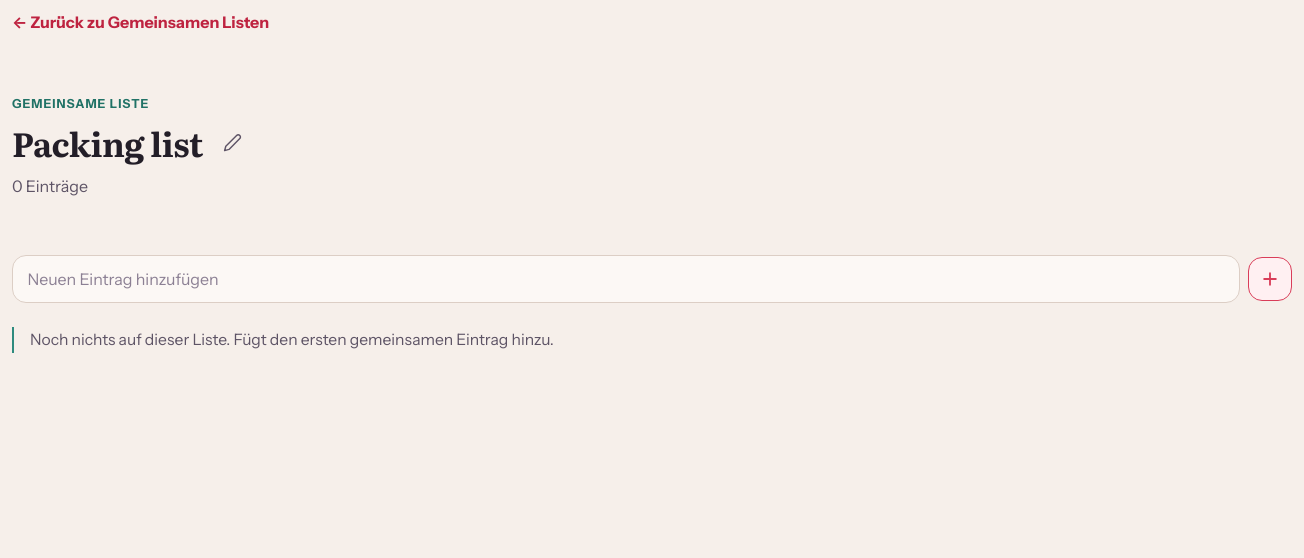
CollectionProductPage › resets isEditing and confirmDelete on successful title update
The image size is (1304, 558).
Click the button named "Bearbeiten". click: (233, 143)
box: x1=211 y1=121 x2=255 y2=165
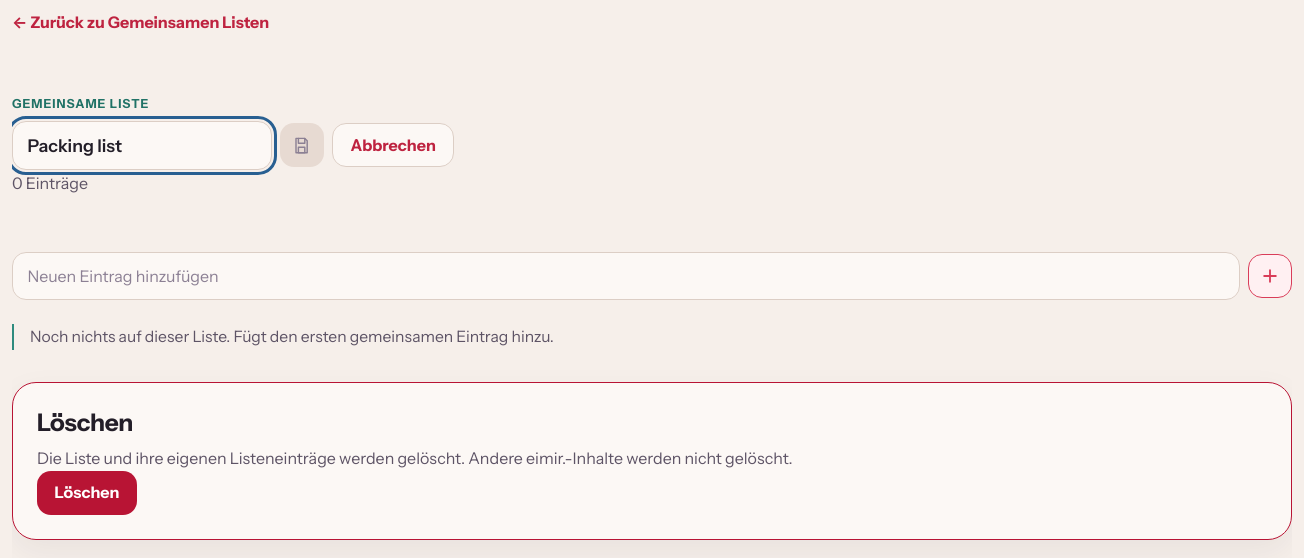
Expected: the field named "Titel" is shown, x1=12 y1=121 x2=272 y2=170
Click the button "Löschen". click: (87, 493)
box: x1=37 y1=471 x2=137 y2=515
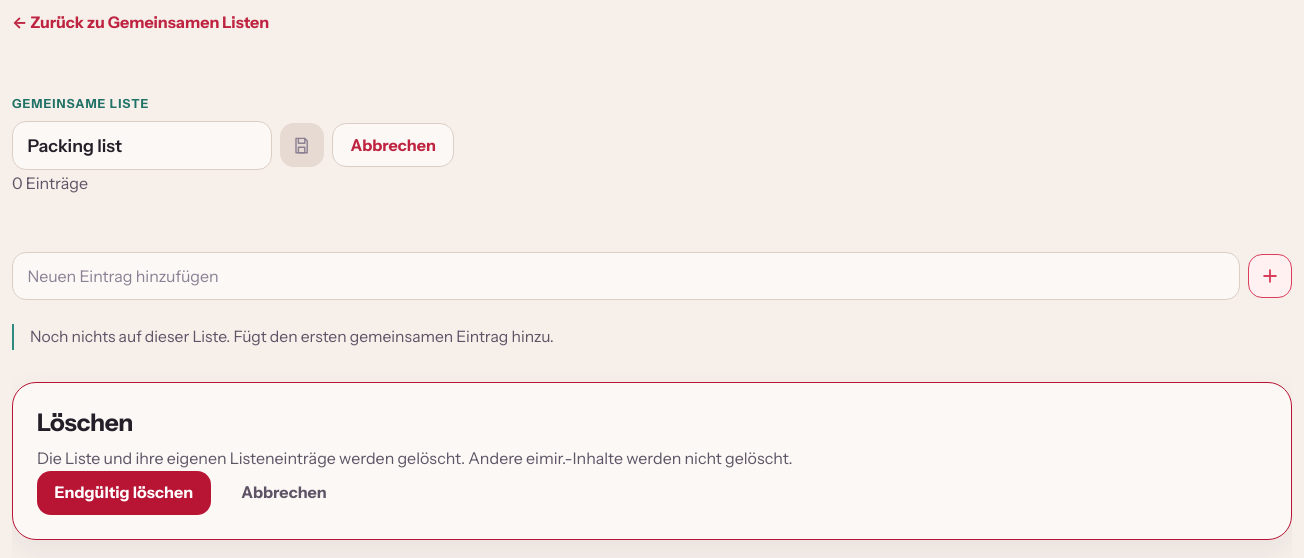
Expected: the button "Endgültig löschen" is shown, x1=37 y1=471 x2=211 y2=515
Update title
Replace the text in the field named "Titel" with "New Packing list". click: (142, 145)
box: x1=12 y1=121 x2=272 y2=170
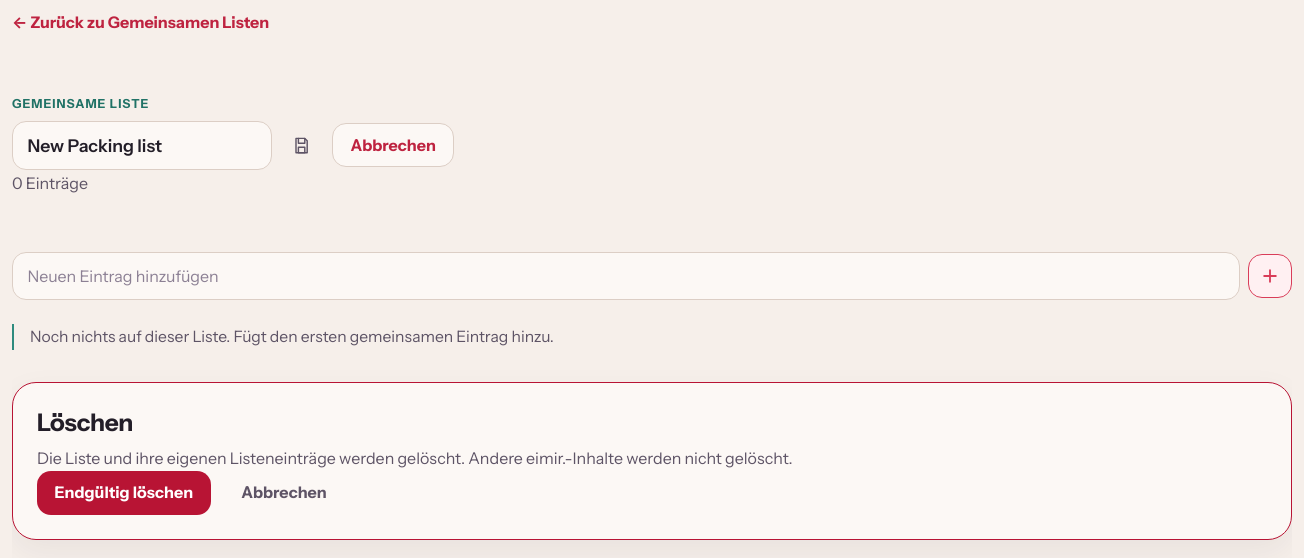
Click the button named "änderungen speichern". click: (302, 145)
box: x1=280 y1=123 x2=324 y2=167
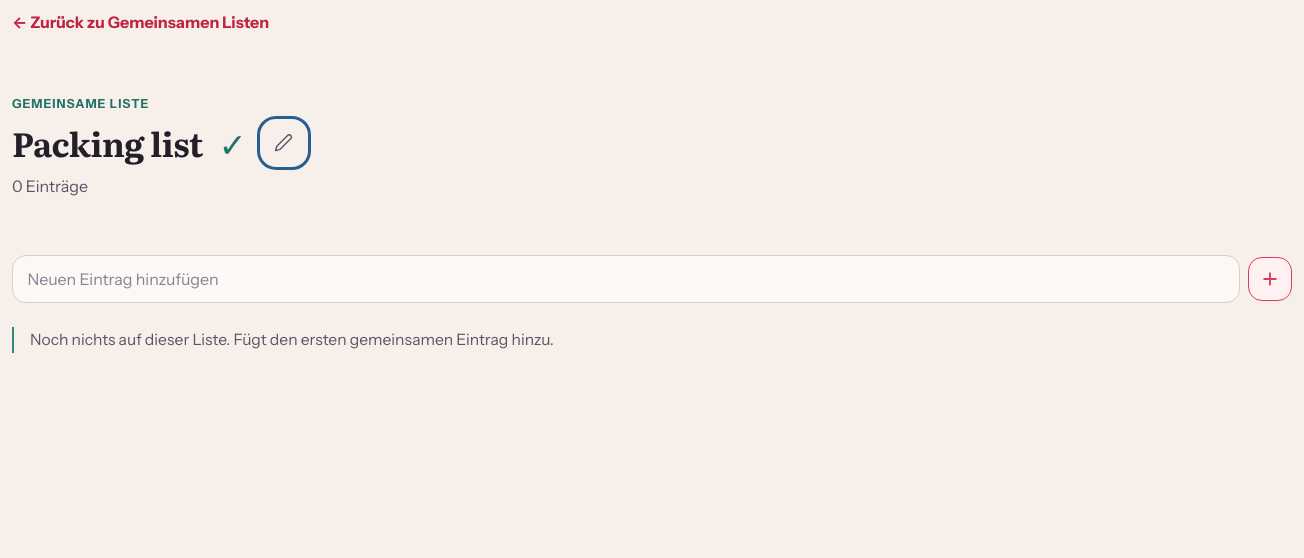
Expected: the field labelled "titel" is gone
Expected: the button named "Bearbeiten" is shown, x1=262 y1=121 x2=306 y2=165
Expected: the button "Endgültig löschen" is gone
